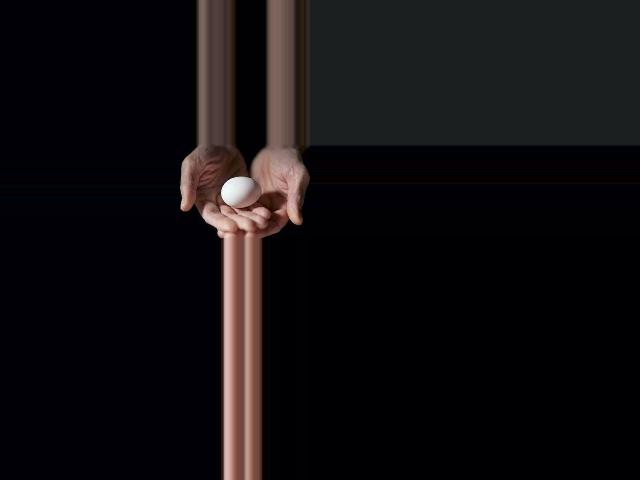egg: (220, 176, 260, 208)
